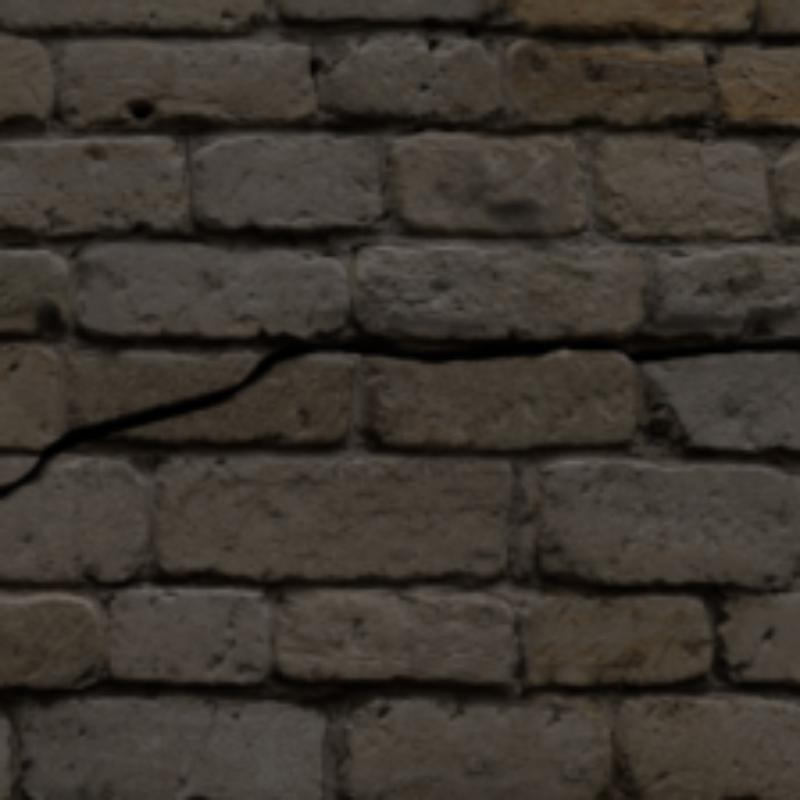crack: (0, 336, 796, 496)
